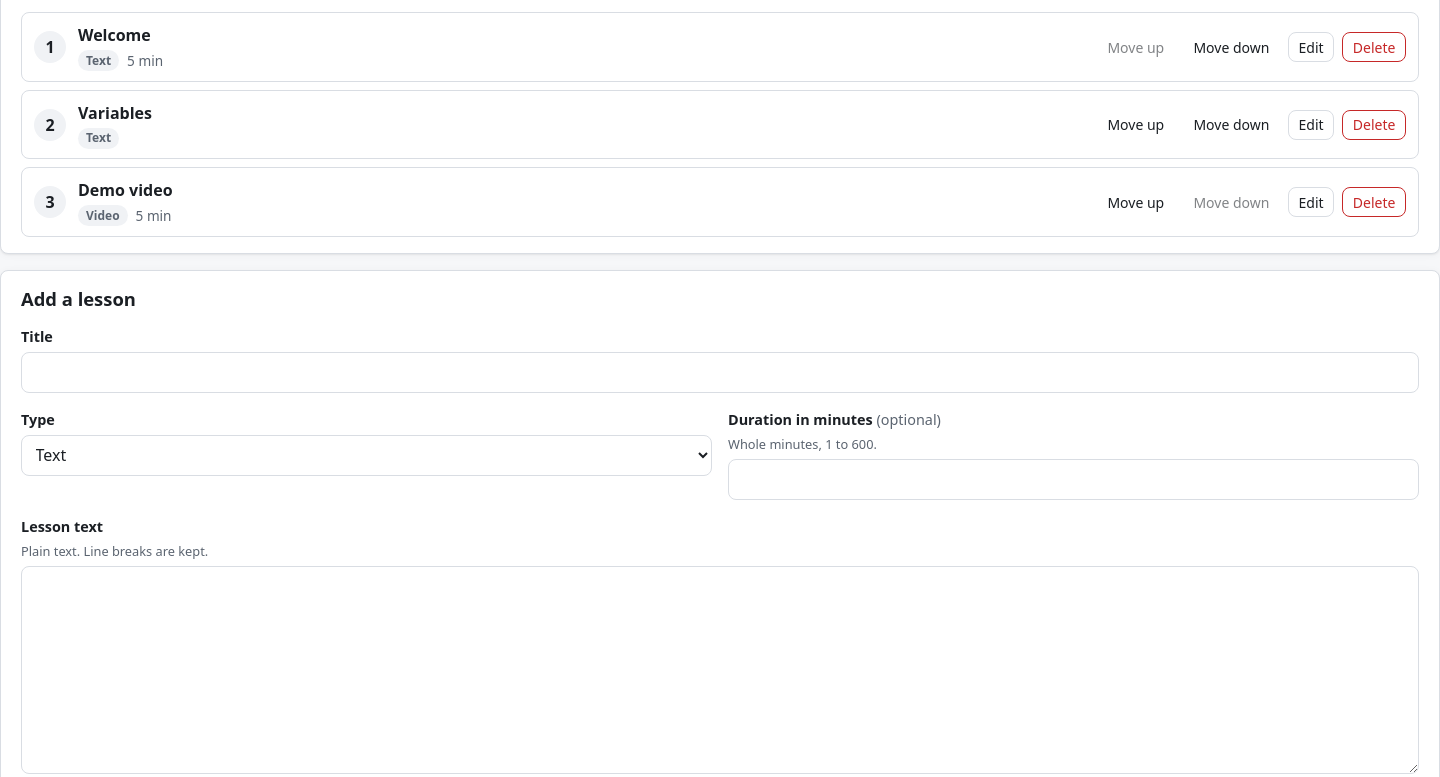
EditCoursePage › shows the API message when adding a lesson fails
This screenshot has width=1440, height=777.
(page scrolled)
Type "One more" into the field labelled "Title" at (720, 373), box [21,352,1419,393]
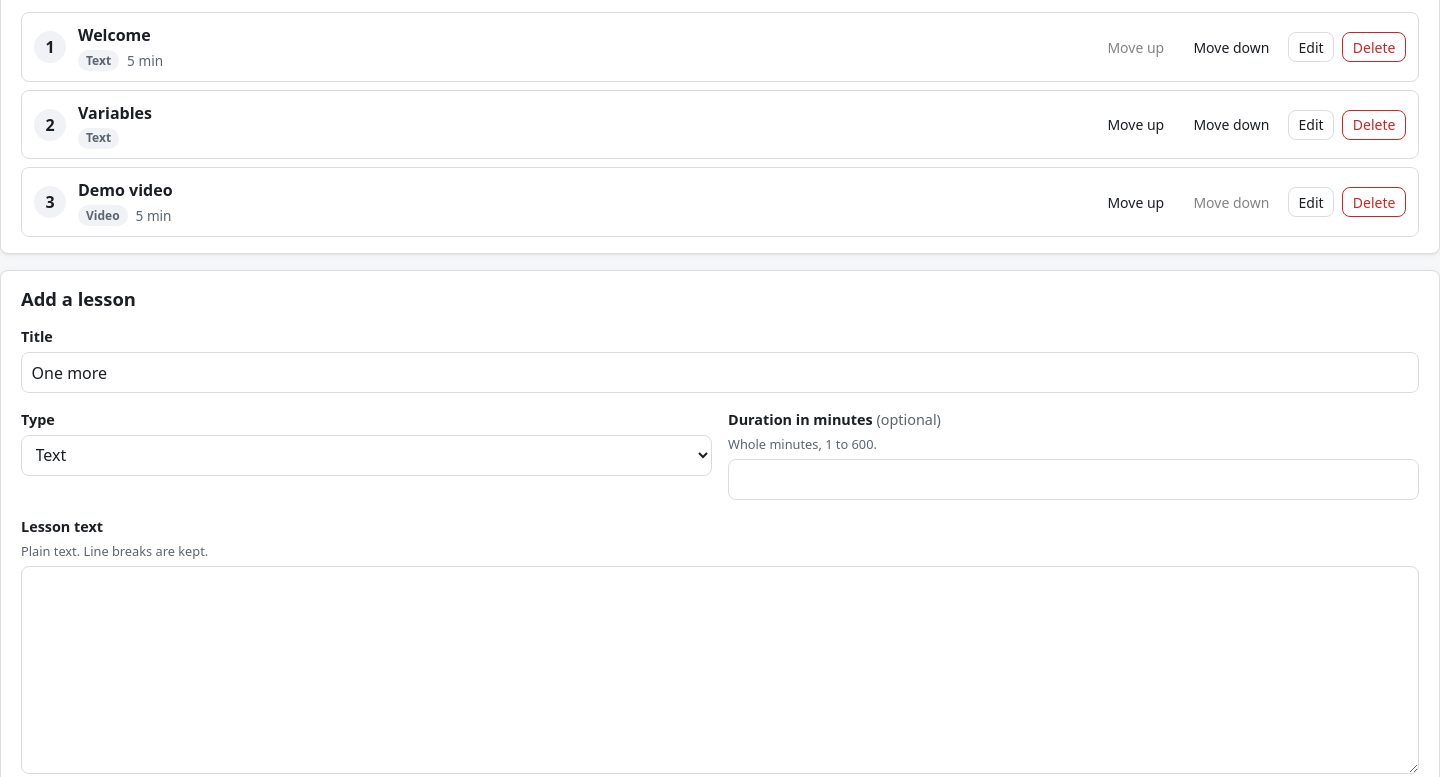
Type "Text" into the text box labelled "Lesson text" at (720, 670), box [21,566,1419,774]
(page scrolled)
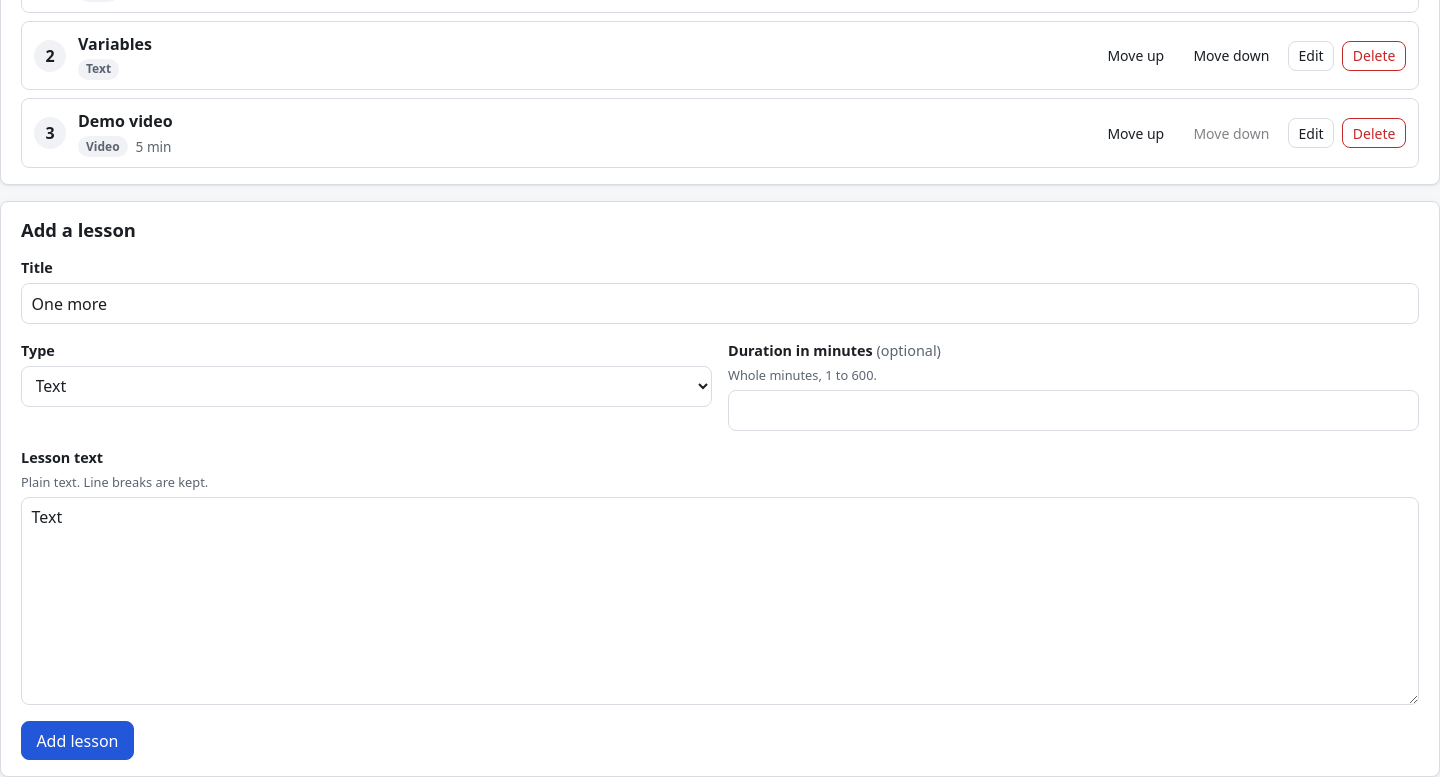
Click the button "Add lesson" at (77, 741), box [21,721,134,760]
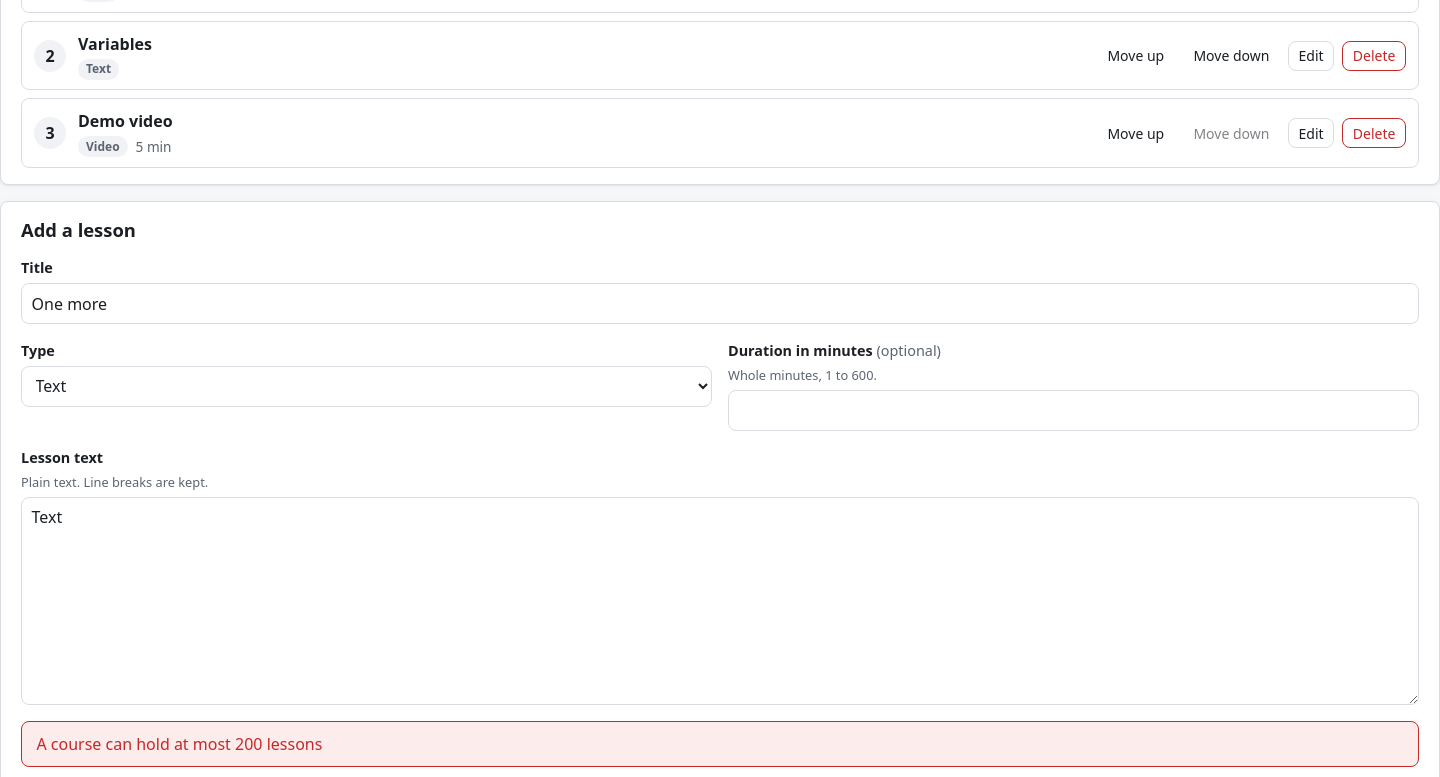
Expected: the message reads "A course can hold at most 200 lessons", [36,733,322,755]
